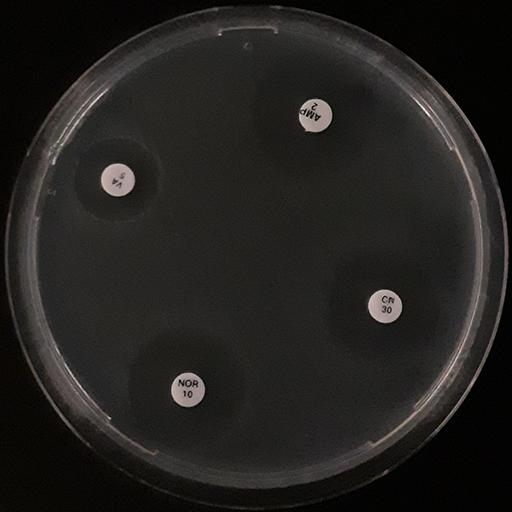disc: (366, 288, 404, 324), (99, 162, 136, 198), (297, 97, 333, 133), (171, 371, 206, 407)
